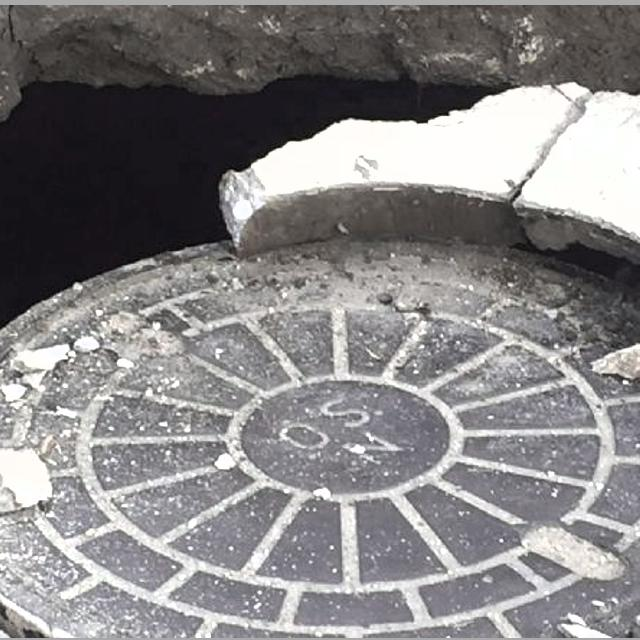circle: (0, 30, 640, 630)
